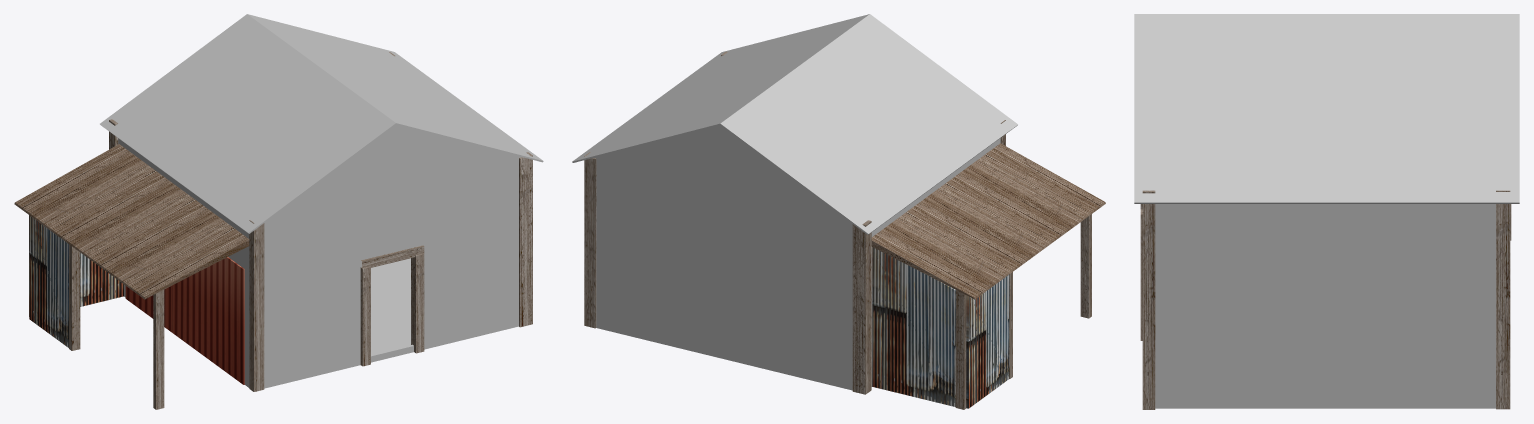
The model's file is FarmBuilding2.fbx.
The picture shows the model from 3 angles, left to right: view 1: azimuth 30°, elevation 25°; view 2: azimuth 150°, elevation 25°; view 3: azimuth 270°, elevation 25°; orthographic projection. The views are drawn at different scales.
Parts seen in each view (by area): view 1: FarmHouseShape2, polySurface2; view 2: FarmHouseShape2, polySurface2; view 3: FarmHouseShape2.
Boxes of the visible parts, left/top/right/bottom form: FarmHouseShape2: left=100, top=14, right=543, bottom=391; polySurface2: left=14, top=144, right=249, bottom=409; FarmHouseShape2: left=572, top=14, right=1017, bottom=394; polySurface2: left=871, top=143, right=1105, bottom=409; FarmHouseShape2: left=1134, top=14, right=1519, bottom=409.
Size of the model in its own units: 1126 by 655 by 744.
